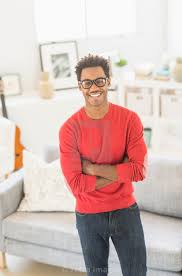Glasses: (75, 79, 110, 88)
